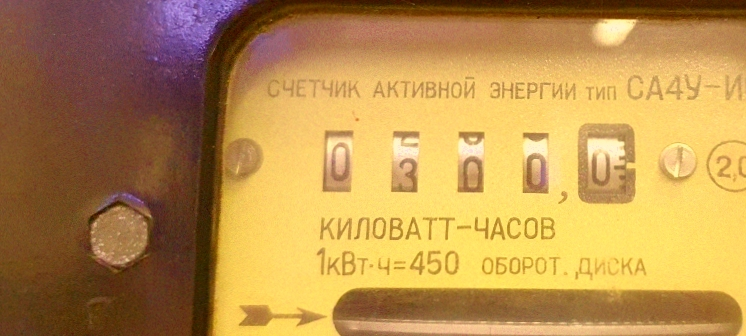0: (523, 149, 548, 193), (328, 137, 351, 183), (587, 145, 612, 187), (459, 152, 483, 193)
3: (395, 154, 418, 192)
screen: (301, 104, 655, 221)
